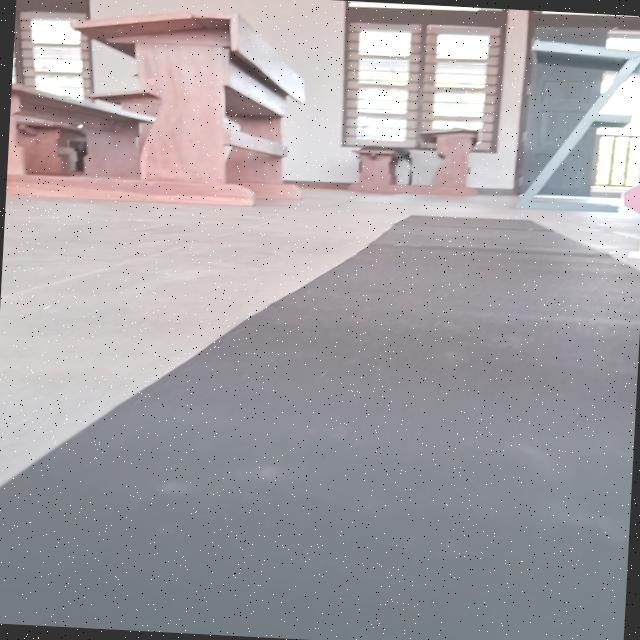Stop: (618, 180, 640, 216)
